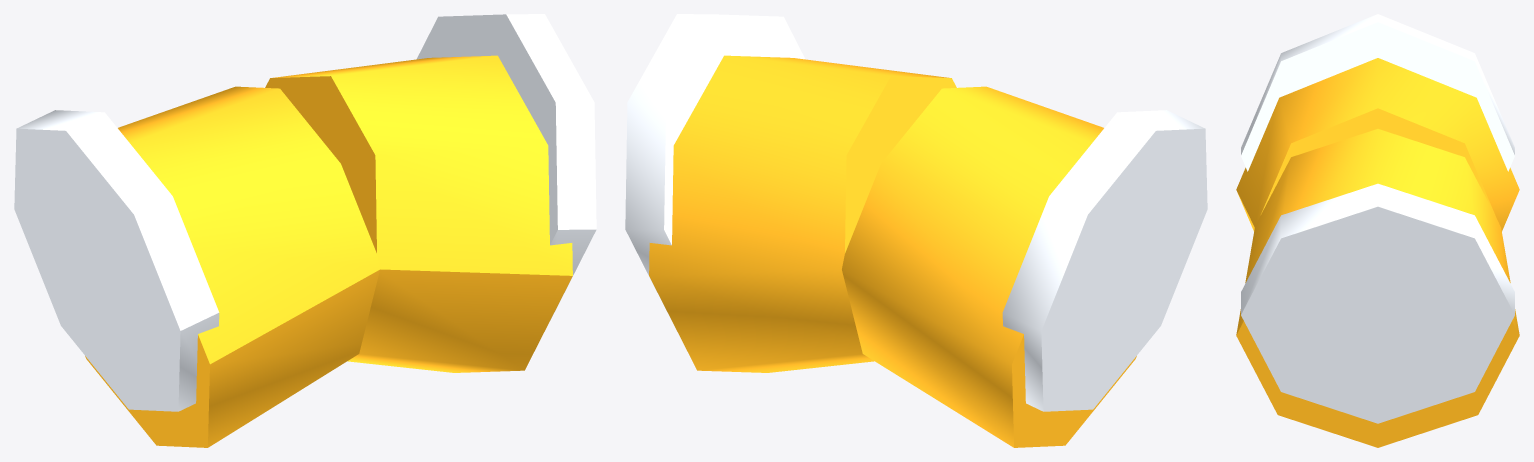
The model's file is trash-can-1.glb.
The picture shows the model from 3 angles, left to right: view 1: azimuth 30°, elevation 25°; view 2: azimuth 150°, elevation 25°; view 3: azimuth 270°, elevation 25°; orthographic projection. The views are drawn at different scales.
Parts seen in each view (by area): view 1: trash-can-1; view 2: trash-can-1; view 3: trash-can-1.
Part boxes in pixels (x1,y1,x2,y2): trash-can-1: (14,14,596,447); trash-can-1: (625,14,1207,447); trash-can-1: (1236,14,1519,447).
Size of the model in its own units: 0.4823 by 0.333 by 0.3.
